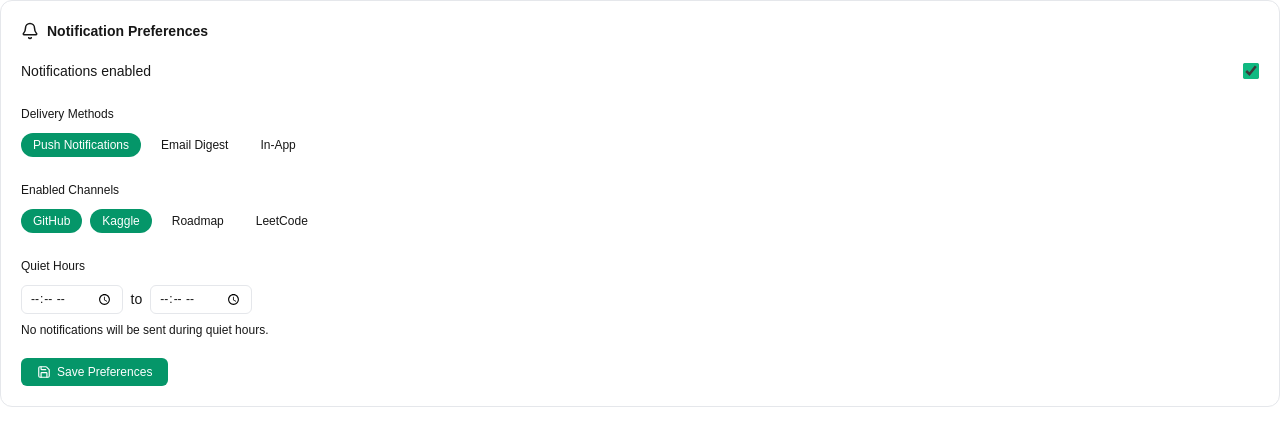
Test: NotificationPrefs › shows Saved text after successful save
What coordinates should you click on to do the following:
click the button "Save Preferences"
I would click on:
 (95, 372)
Its box is [21,358,168,386].
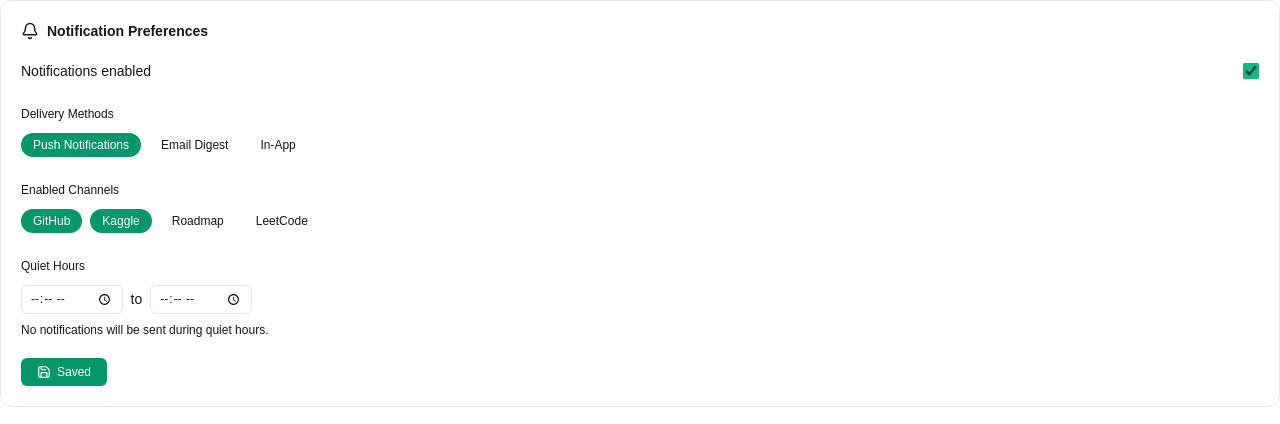
Expected: the button "Saved" is shown, [21,358,107,386]
